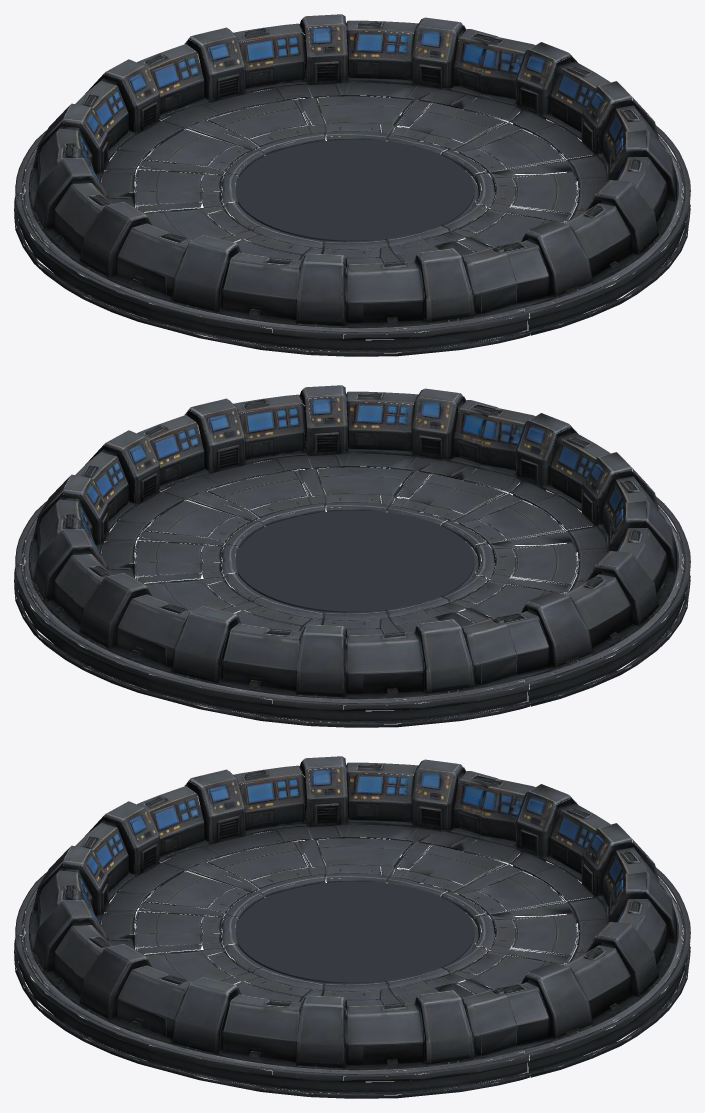
Rendered from iss_hull_deck.glb.
3 renders of one model, top to bottom at view 1: azimuth 30°, elevation 25°; view 2: azimuth 150°, elevation 25°; view 3: azimuth 270°, elevation 25°, orthographic.
Visible parts, largest first — view 1: iss_hull_deck; view 2: iss_hull_deck; view 3: iss_hull_deck.
Part boxes in pixels (x1=…): iss_hull_deck: x1=14, y1=14, x2=690, y2=356; iss_hull_deck: x1=14, y1=385, x2=690, y2=727; iss_hull_deck: x1=14, y1=756, x2=690, y2=1098.
Size of the model in its own units: 9.14 by 1.13 by 9.05.
Materials: 2 (1 with a texture image).
